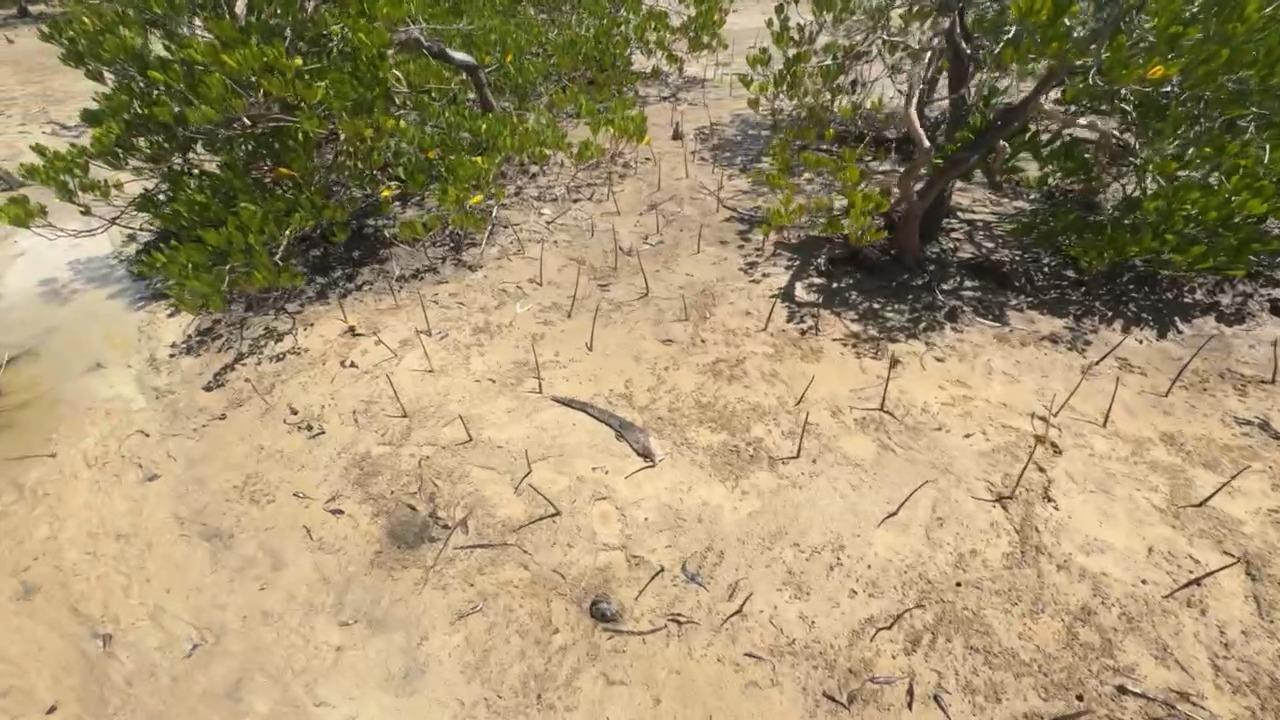Tree: (1165, 335, 1215, 397), (1039, 364, 1091, 417), (1199, 464, 1252, 507), (869, 669, 915, 713), (1010, 441, 1038, 499), (1031, 393, 1057, 451), (880, 348, 903, 410), (895, 480, 929, 515), (1196, 558, 1240, 584), (527, 484, 563, 515), (796, 410, 818, 458), (889, 604, 927, 631), (1095, 335, 1127, 366), (385, 373, 407, 416), (1102, 376, 1120, 428), (414, 327, 434, 372), (371, 326, 398, 357), (243, 376, 270, 405), (932, 683, 953, 720), (568, 258, 581, 317), (822, 689, 852, 714), (417, 287, 432, 335), (764, 289, 781, 330), (635, 248, 649, 297), (795, 374, 815, 405), (743, 652, 777, 670), (531, 343, 542, 394), (589, 303, 599, 352), (458, 413, 473, 440), (1270, 335, 1278, 382), (388, 280, 400, 306), (612, 223, 618, 272), (336, 299, 348, 323), (611, 189, 621, 216), (740, 592, 754, 611), (540, 235, 545, 287), (524, 448, 532, 472), (697, 224, 703, 254), (649, 146, 657, 166), (681, 294, 687, 320), (680, 109, 684, 148), (657, 157, 661, 190), (684, 147, 688, 180), (655, 204, 659, 233), (692, 134, 696, 163), (634, 149, 638, 176), (716, 178, 719, 213), (607, 170, 610, 200), (736, 576, 749, 582), (657, 562, 665, 571), (671, 105, 674, 128), (720, 168, 723, 188), (592, 215, 594, 237)
